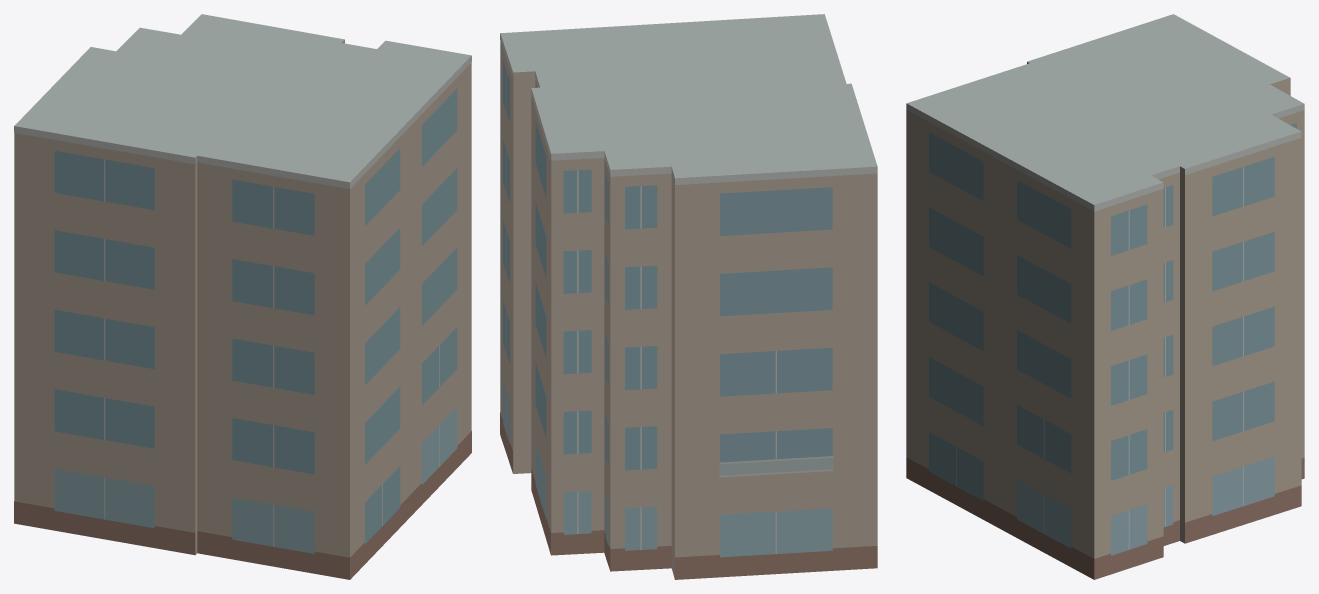
File: survey-upis-33039895.glb
3 views of the same model, side by side, from view 1: azimuth 30°, elevation 25°; view 2: azimuth 150°, elevation 25°; view 3: azimuth 270°, elevation 25° (orthographic). The views are drawn at different scales.
Visible parts, largest first — view 1: survey-upis-33039895.tmp; view 2: survey-upis-33039895.tmp; view 3: survey-upis-33039895.tmp.
Boxes of the visible parts, bbox=[...] form: survey-upis-33039895.tmp: bbox=[14, 14, 471, 579]; survey-upis-33039895.tmp: bbox=[500, 14, 877, 579]; survey-upis-33039895.tmp: bbox=[906, 14, 1304, 579].
Size of the model in its own units: 15.76 by 14.4 by 13.87.
